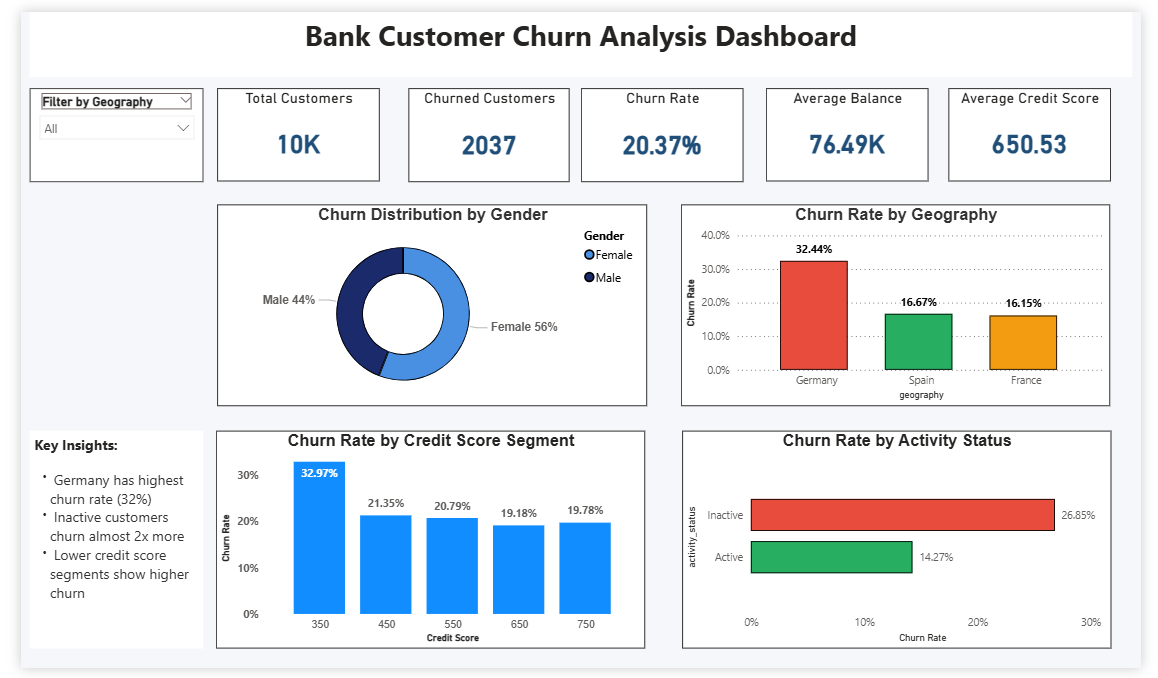

Layout of this report page (visuals, bound fields, positions):
{"tool":"powerbi","page":{"name":"BankChurn","canvas":[1280,750],"ordinal":0},"visuals":[{"type":"card","title":"Total Customers","fields":{"Values":["CountNonNull(public vw_customers_clean.customerid)"]},"box":[223.8,87.1,185.4,106.4],"z":0},{"type":"columnChart","title":"Churn Rate by Geography","fields":{"Category":["public vw_customers_clean.geography"],"Y":["public vw_customers_clean.Churn Rate"]},"box":[753.6,220,490.7,230.1],"z":1000},{"type":"card","title":"Churn Rate","fields":{"Values":["public vw_customers_clean.Churn Rate"]},"box":[640,87.1,185.7,107.1],"z":2000},{"type":"card","title":"Churned Customers","fields":{"Values":["public vw_customers_clean.Churned Customers"]},"box":[442.9,87.1,184.3,107.1],"z":3000},{"type":"barChart","title":"Churn Rate by Activity Status","fields":{"Category":["public vw_customers_clean.activity_status"],"Y":["public vw_customers_clean.Churn Rate"]},"box":[755.7,478.6,490,248.6],"z":4000},{"type":"card","title":"Average Balance","fields":{"Values":["public vw_customers_clean.Avg Balance"]},"box":[851.4,87.1,185.4,106.4],"z":5000},{"type":"donutChart","title":"Churn Distribution by Gender","fields":{"Category":["public vw_customers_clean.gender"],"Y":["public vw_customers_clean.Churned Customers"]},"box":[224.3,220,491.4,230],"z":6000},{"type":"card","title":"Average Credit Score","fields":{"Values":["public vw_customers_clean.Avg Credit Score"]},"box":[1060.6,87.1,185.4,106.4],"z":7000},{"type":"clusteredColumnChart","title":"Churn Rate by Credit Score Segment","fields":{"Category":["public vw_customers_clean.creditscore (bins)"],"Y":["public vw_customers_clean.Churn Rate"]},"box":[222.9,478.6,490,248.6],"z":8000},{"type":"textbox","title":"Bank Customer Churn Analysis Dashboard","box":[10,0,1260,74.3],"z":9000},{"type":"slicer","fields":{"Values":["public vw_customers_clean.geography","public vw_customers_clean.isactivemember","public vw_customers_clean.gender"]},"box":[10,87.1,198.6,107.1],"z":10000},{"type":"textbox","box":[10,478.6,198.6,248.6],"z":11000}]}

Visuals, with their boxes in screenshot pixels (x1, y1, x2, y2), scaled from the page's 1280x750 canvas onto the 1158x678 screenshot:
"Total Customers" card: {"x1": 202, "y1": 79, "x2": 370, "y2": 175}
"Churn Rate by Geography" columnChart: {"x1": 682, "y1": 199, "x2": 1126, "y2": 407}
"Churn Rate" card: {"x1": 579, "y1": 79, "x2": 747, "y2": 176}
"Churned Customers" card: {"x1": 401, "y1": 79, "x2": 567, "y2": 176}
"Churn Rate by Activity Status" barChart: {"x1": 684, "y1": 433, "x2": 1127, "y2": 657}
"Average Balance" card: {"x1": 770, "y1": 79, "x2": 938, "y2": 175}
"Churn Distribution by Gender" donutChart: {"x1": 203, "y1": 199, "x2": 647, "y2": 407}
"Average Credit Score" card: {"x1": 960, "y1": 79, "x2": 1127, "y2": 175}
"Churn Rate by Credit Score Segment" clusteredColumnChart: {"x1": 202, "y1": 433, "x2": 645, "y2": 657}
"Bank Customer Churn Analysis Dashboard" textbox: {"x1": 9, "y1": 0, "x2": 1149, "y2": 67}
slicer - public vw_customers_clean.geography x public vw_customers_clean.isactivemember: {"x1": 9, "y1": 79, "x2": 189, "y2": 176}
textbox: {"x1": 9, "y1": 433, "x2": 189, "y2": 657}
